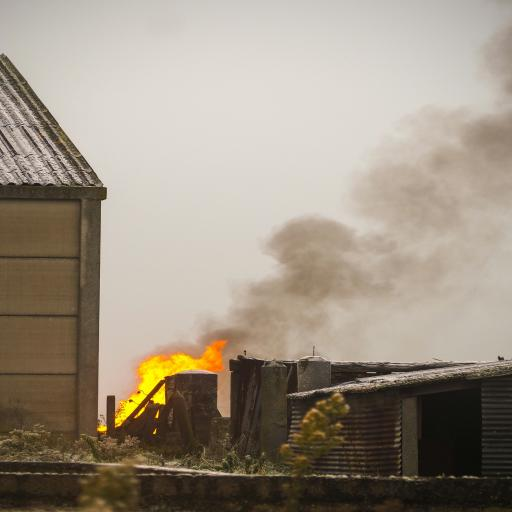buildingfire: (4, 59, 512, 512)
smoke: (179, 127, 512, 333)
